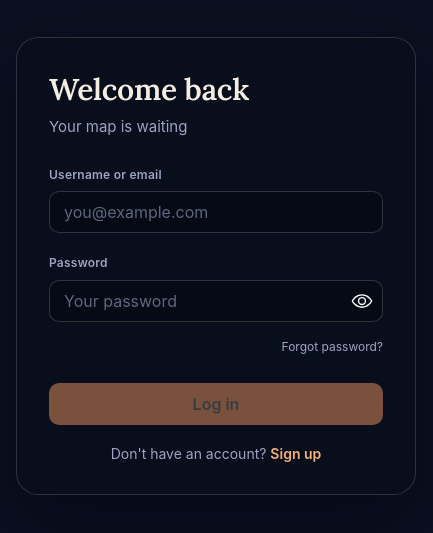
Scenario: LoginPage › неверные креды (401) показывают общую ошибку на уровне формы
In the field labelled "Username or email": (216, 212) top-left (49, 191), bottom-right (383, 233), type "alice"
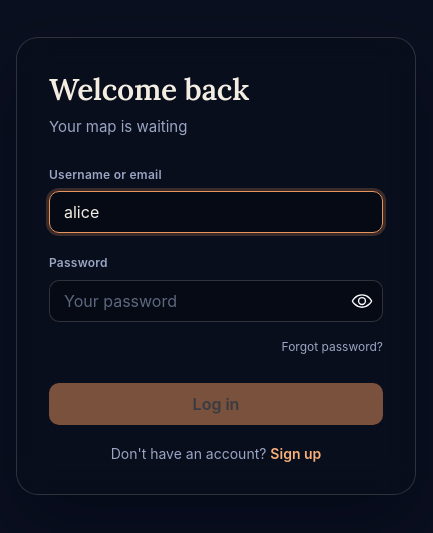
In the password field labelled "Password": (216, 301) top-left (50, 281), bottom-right (382, 321), type "wrong-pass"
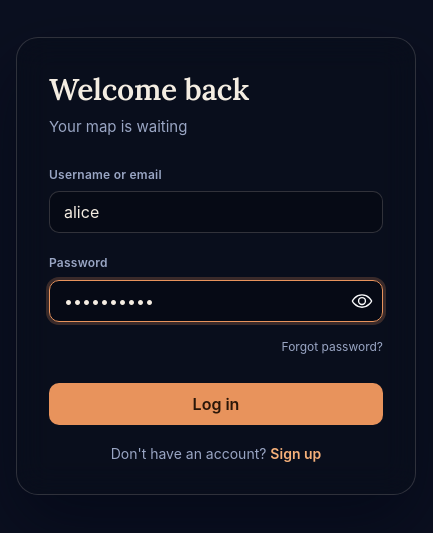
Click the button "Log in": (216, 404) top-left (49, 382), bottom-right (383, 424)
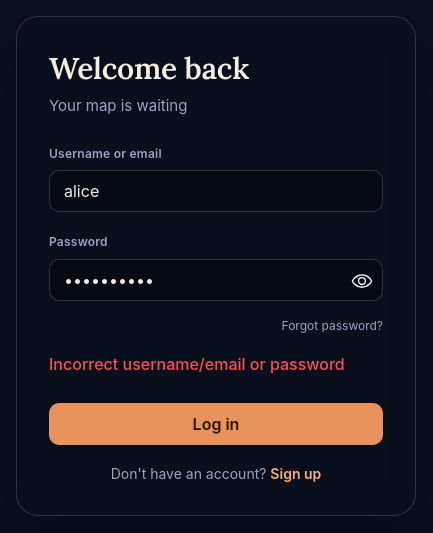
expect the text "Incorrect username/email or password" is shown: met, box top-left (49, 352), bottom-right (383, 377)
